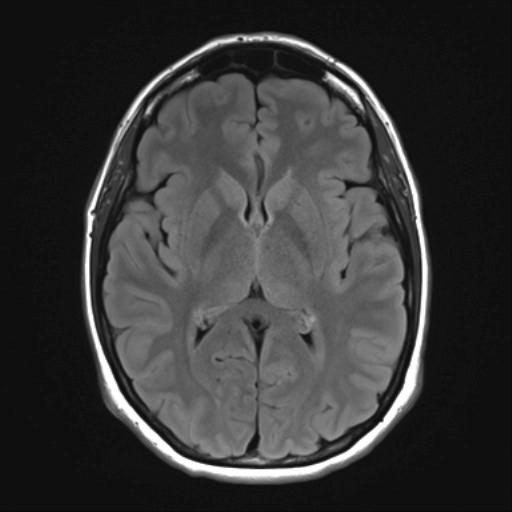Normal_Brain: (1, 1, 512, 512)
